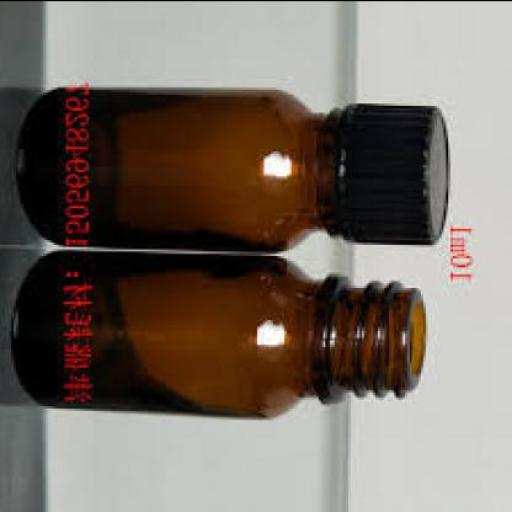glass: (12, 250, 430, 423), (16, 86, 343, 256)
plastic: (332, 105, 453, 246)
